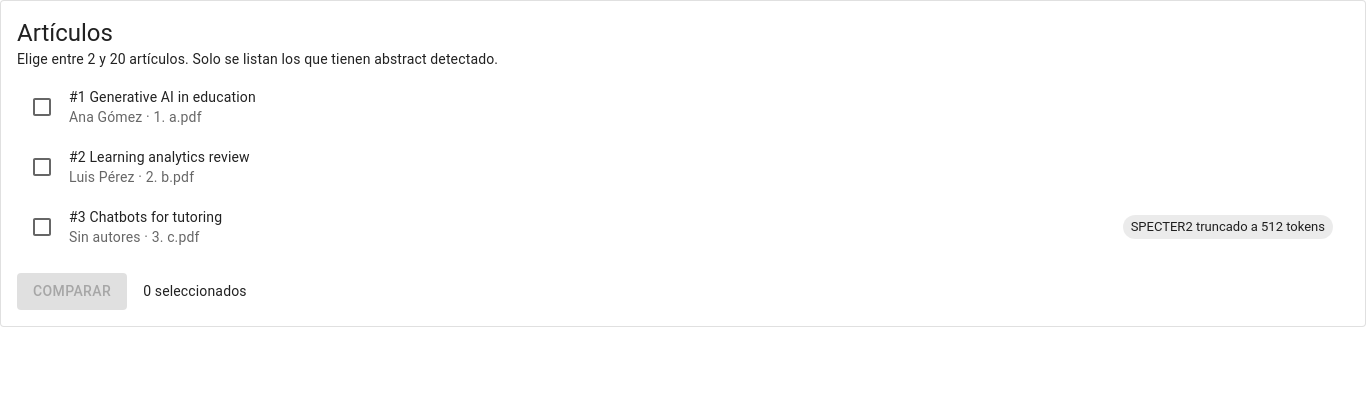
Scenario: ArticleSelector (REQ-13, REQ-15, REQ-17, AC-14) › muestra en un Alert el mensaje 400 en español del backend
What coordinates should you click on to do the following:
click the checkbox labelled "#1 Generative AI in education"
I would click on:
 (42, 107)
Its box is x1=30 y1=95 x2=54 y2=119.
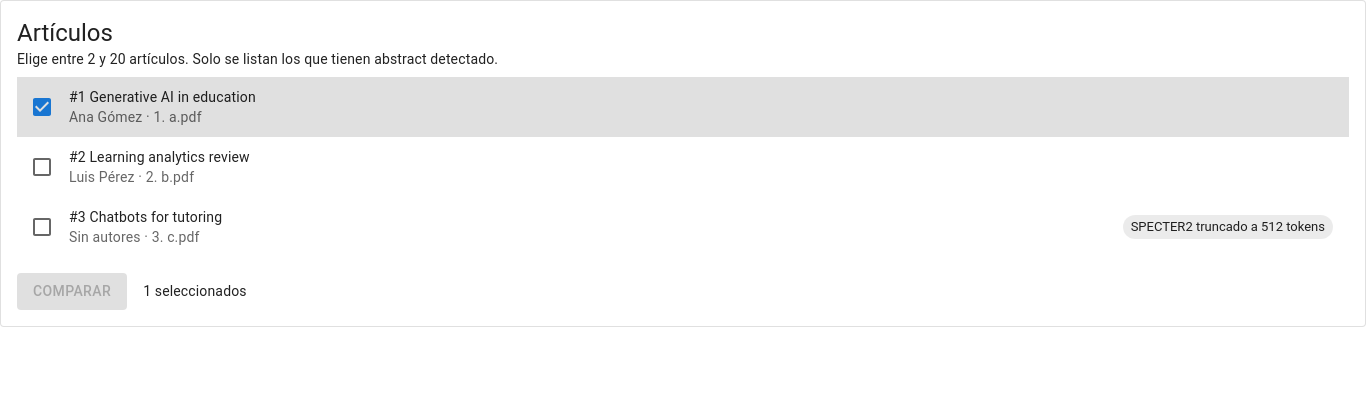
What coordinates should you click on to do the following:
click the checkbox labelled "#2 Learning analytics review"
I would click on:
 (42, 167)
Its box is x1=30 y1=155 x2=54 y2=179.
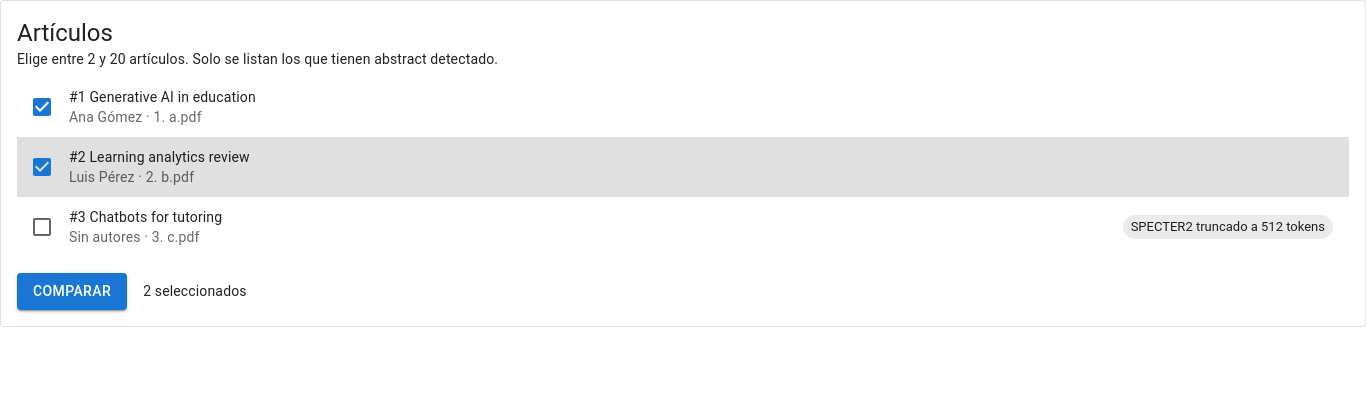
What coordinates should you click on to do the following:
click the button "Comparar"
I would click on:
 (72, 291)
Its box is x1=17 y1=273 x2=127 y2=310.
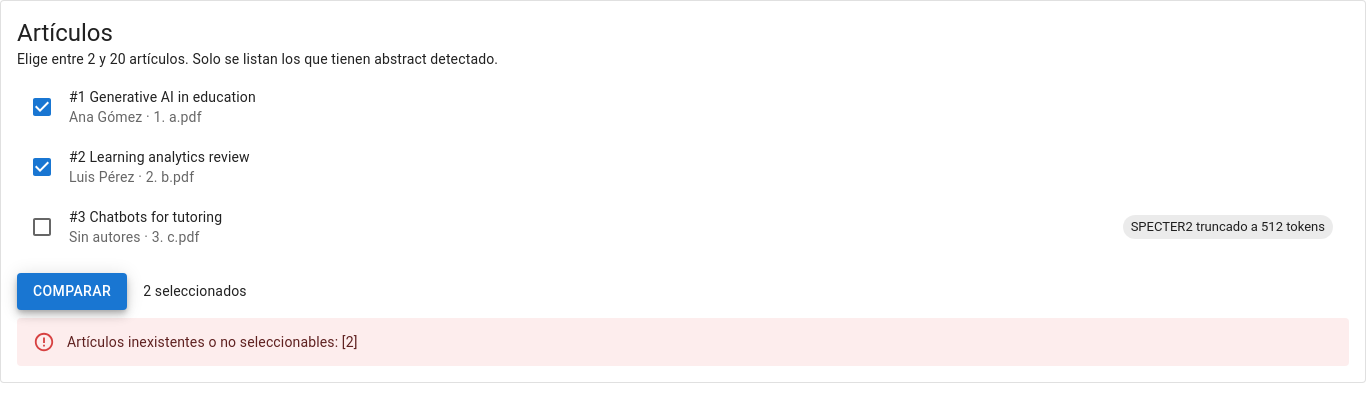
Now the message reads "Artículos inexistentes o no seleccionables: [2]", box x1=67 y1=334 x2=358 y2=350
